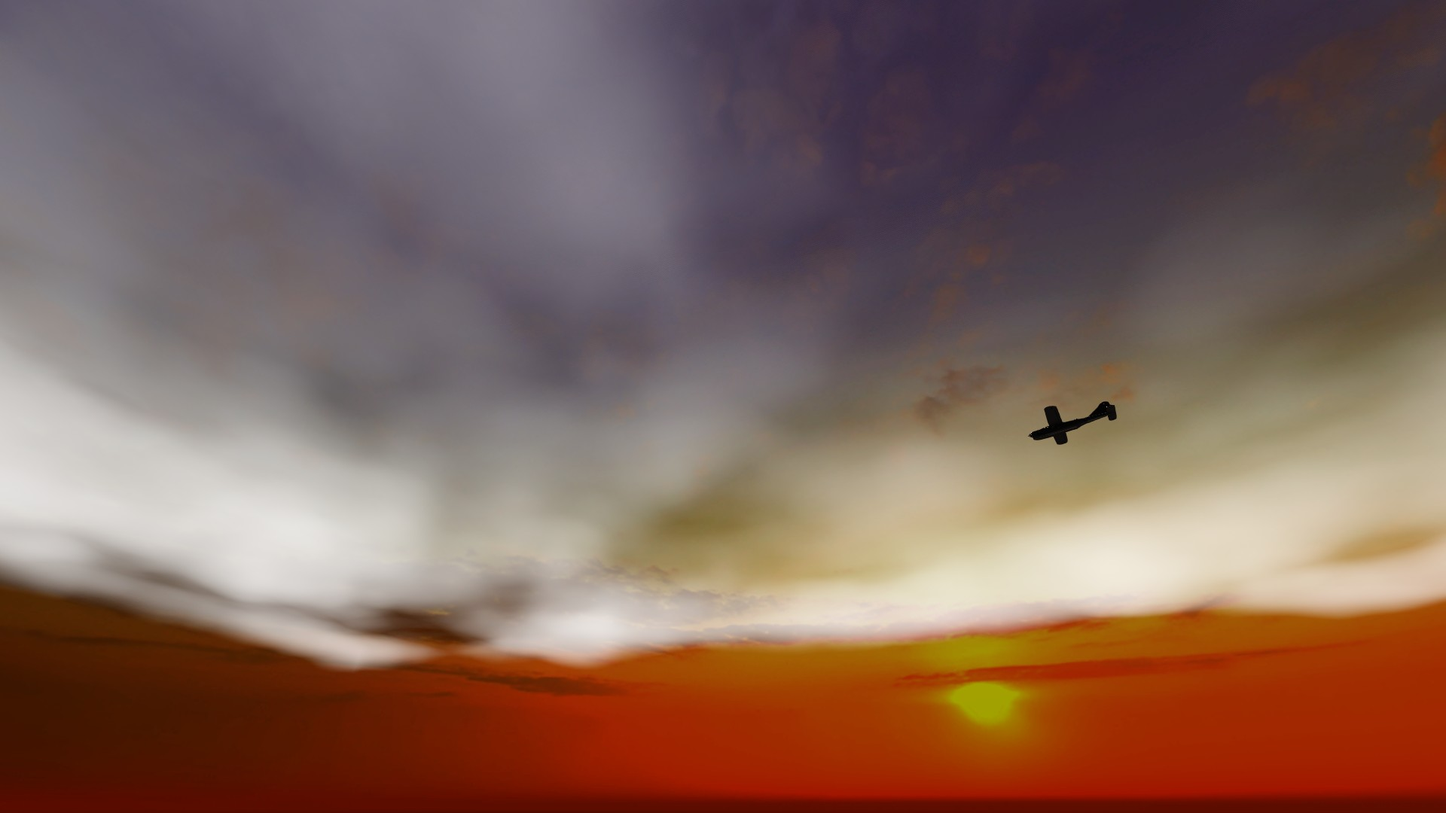drone_other: (1028, 401, 1117, 445)
